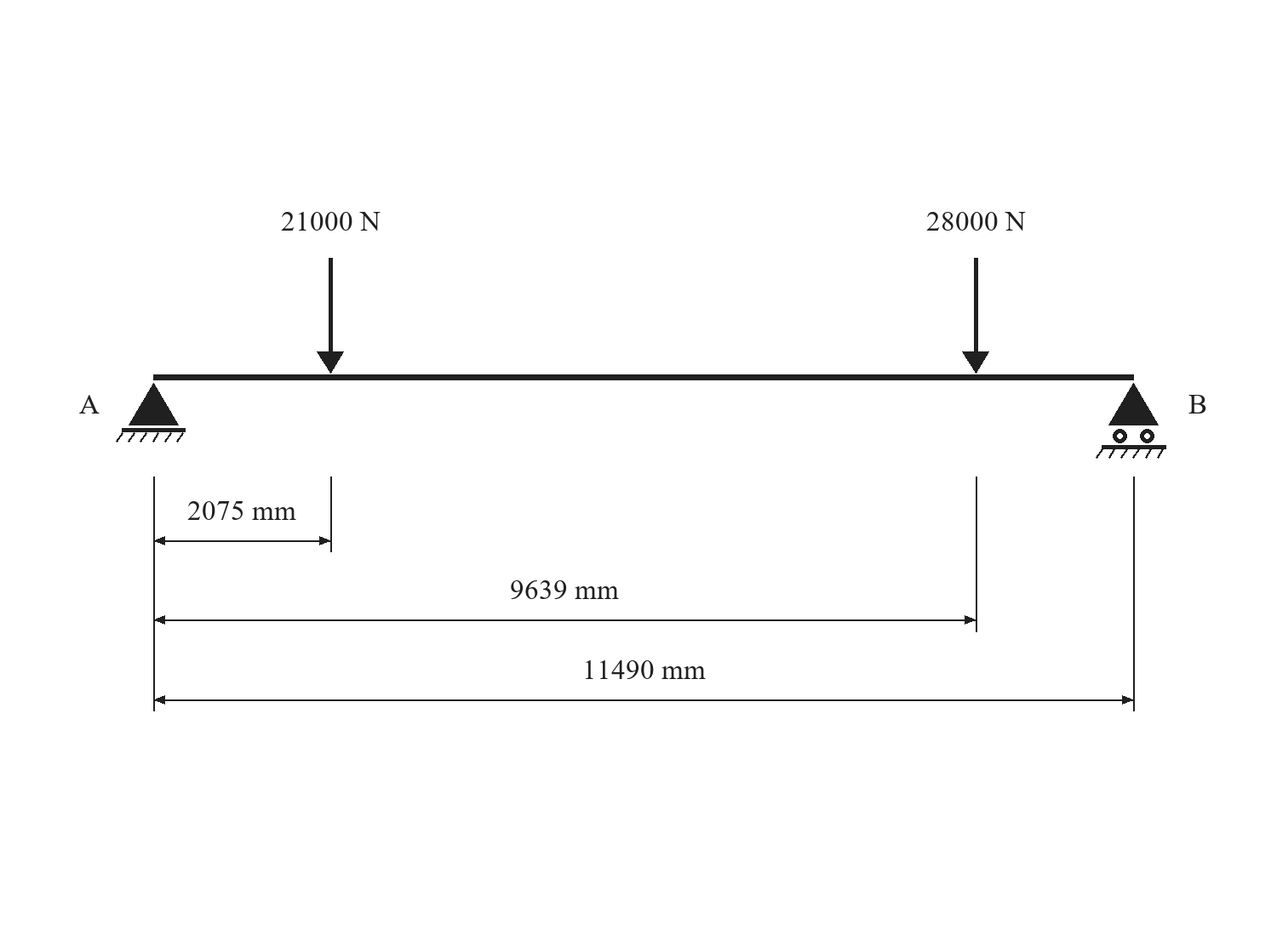pin_support: (116, 383, 186, 442)
point_load: (317, 258, 344, 374), (962, 258, 989, 374)
roller_support: (1096, 383, 1166, 459)
